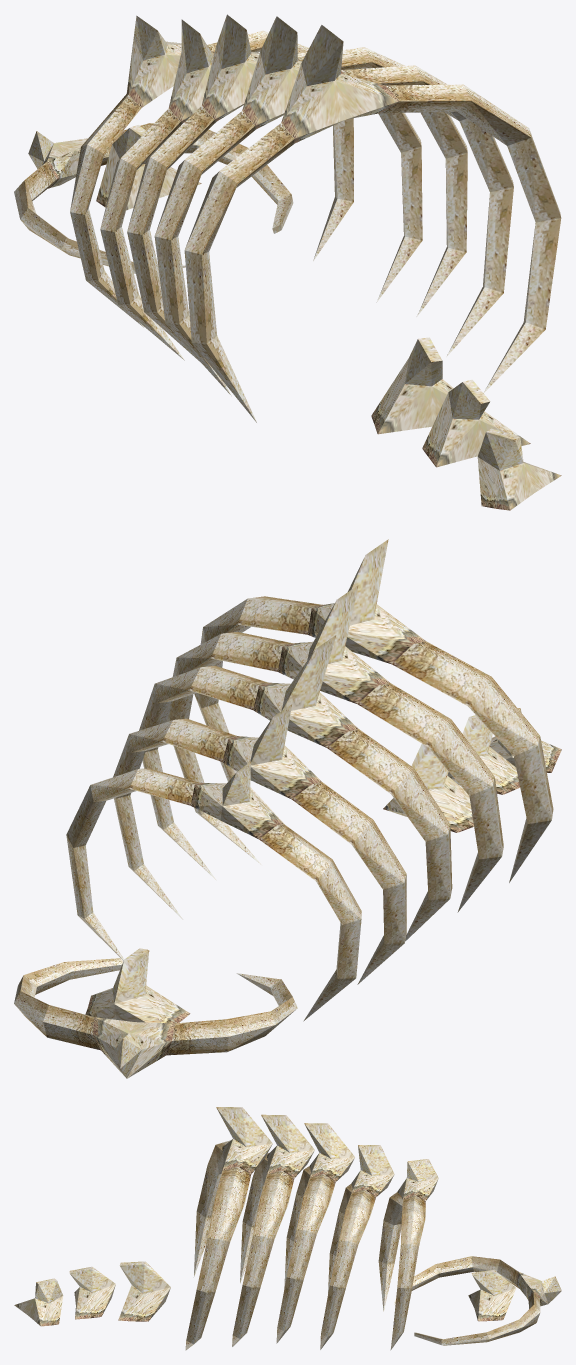
File: poi_tato_skel_krayt_ribcage_l0.fbx
3 renders of one model, top to bottom at view 1: azimuth 30°, elevation 25°; view 2: azimuth 150°, elevation 25°; view 3: azimuth 270°, elevation 25°, orthographic. The views are drawn at different scales.
Parts seen in each view (by area): view 1: mesh_node; view 2: mesh_node; view 3: mesh_node.
Part boxes in pixels (x1,y1,x2,y2): mesh_node: (14,14,561,510); mesh_node: (14,539,561,1078); mesh_node: (14,1107,561,1350).
Size of the model in its own units: 4.52 by 4.44 by 9.96.
2 materials, 2 textured.
